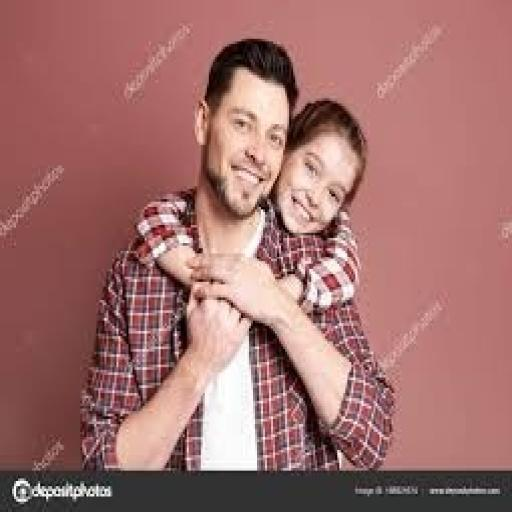hugging: (78, 34, 398, 473)
